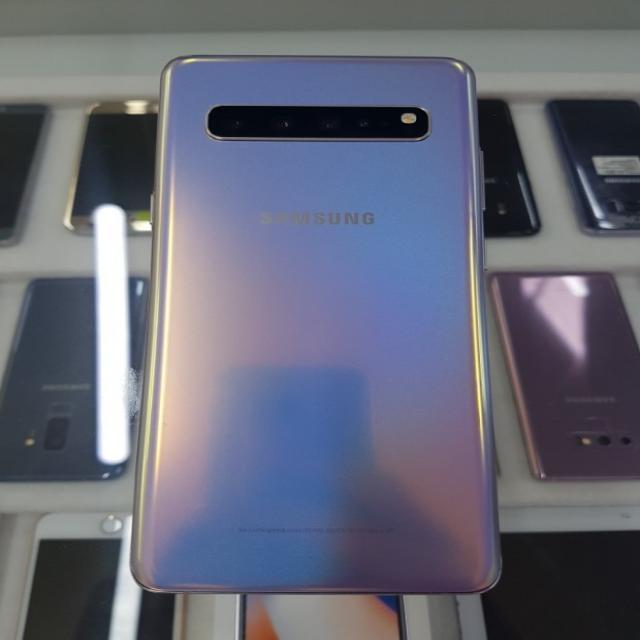phone: (131, 51, 502, 594)
